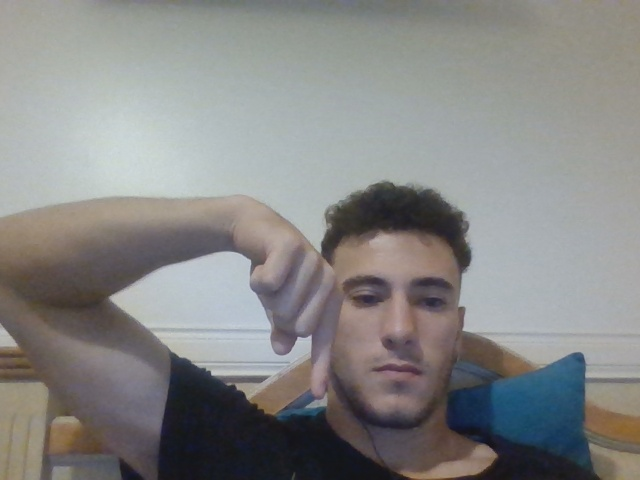Down: (248, 228, 342, 397)
